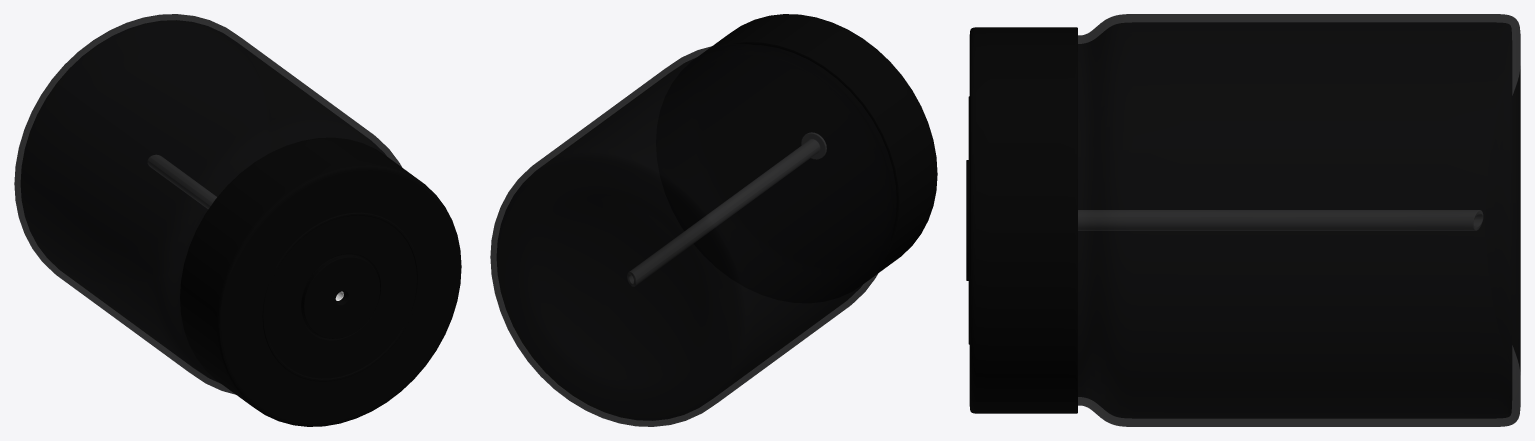
File: SM_Milchbehaelter.obj
3 views of the same model, side by side, from view 1: azimuth 30°, elevation 25°; view 2: azimuth 150°, elevation 25°; view 3: azimuth 270°, elevation 25° (orthographic). The views are drawn at different scales.
Parts seen in each view (by area): view 1: SM_Milchbehaelter; view 2: SM_Milchbehaelter; view 3: SM_Milchbehaelter.
Boxes of the visible parts, bbox=[...] form: SM_Milchbehaelter: bbox=[14, 14, 461, 426]; SM_Milchbehaelter: bbox=[490, 14, 937, 426]; SM_Milchbehaelter: bbox=[966, 14, 1520, 426].
Size of the model in its own units: 0.098 by 0.098 by 0.1314.
Materials: 3 (1 with a texture image).
